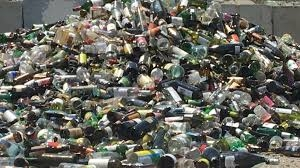glass: (219, 149, 268, 168), (130, 112, 161, 139), (106, 83, 153, 99), (25, 152, 75, 166), (172, 78, 205, 99), (77, 153, 123, 168), (160, 60, 187, 79), (110, 1, 125, 25), (83, 110, 101, 128), (120, 37, 135, 57)
metal: (23, 125, 37, 140)
plastic: (53, 24, 86, 47)
